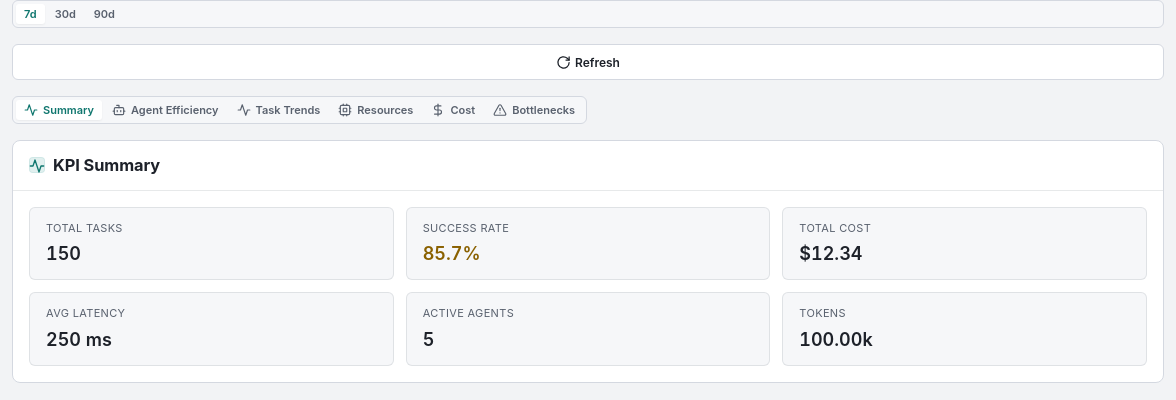
Test: Analysis.vue › renders agent efficiency table when agents endpoint returns data
Click the radio button with class "segmented__item" showing "Agent Efficiency" at (165, 110), box [104, 100, 226, 120]
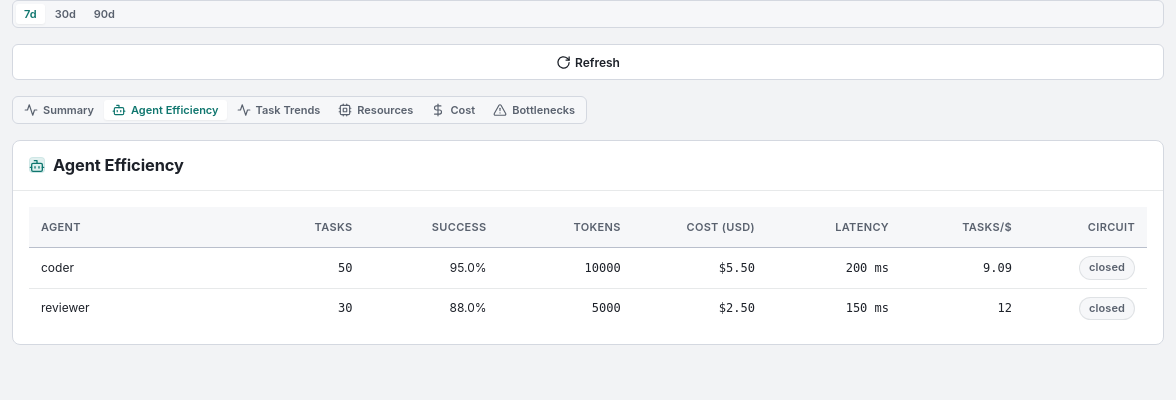
Expected: the text "coder" is shown, [41, 260, 74, 275]
Expected: the text "reviewer" is shown, [41, 300, 90, 316]
Expected: the text "95.0%" is shown, [450, 260, 487, 275]
